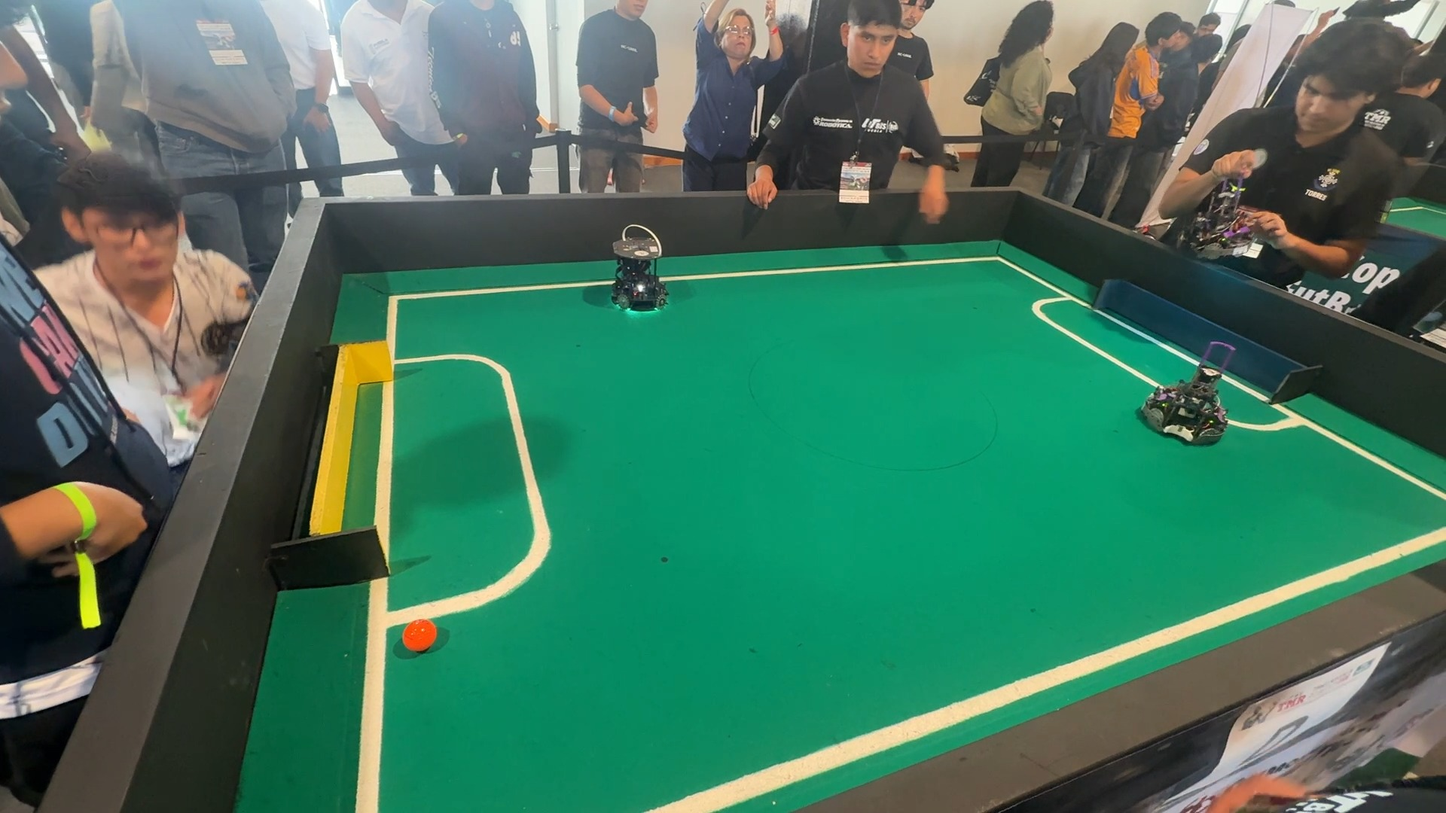Robot: (1137, 346, 1254, 451), (595, 222, 686, 331)
pelota: (397, 615, 448, 661)
